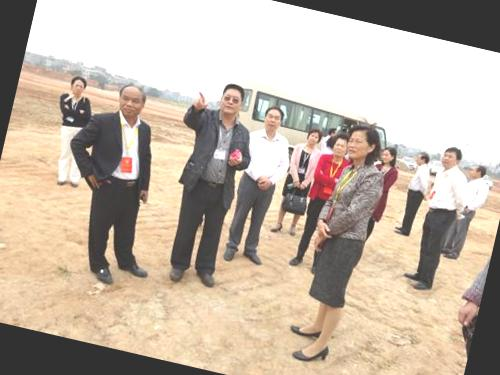no_helmet: (344, 118, 384, 165), (112, 77, 150, 122), (213, 79, 248, 123), (328, 130, 356, 164), (438, 142, 466, 176), (259, 102, 286, 134), (63, 71, 89, 100), (376, 142, 401, 170), (410, 148, 434, 173), (302, 124, 323, 148), (469, 162, 489, 184)
